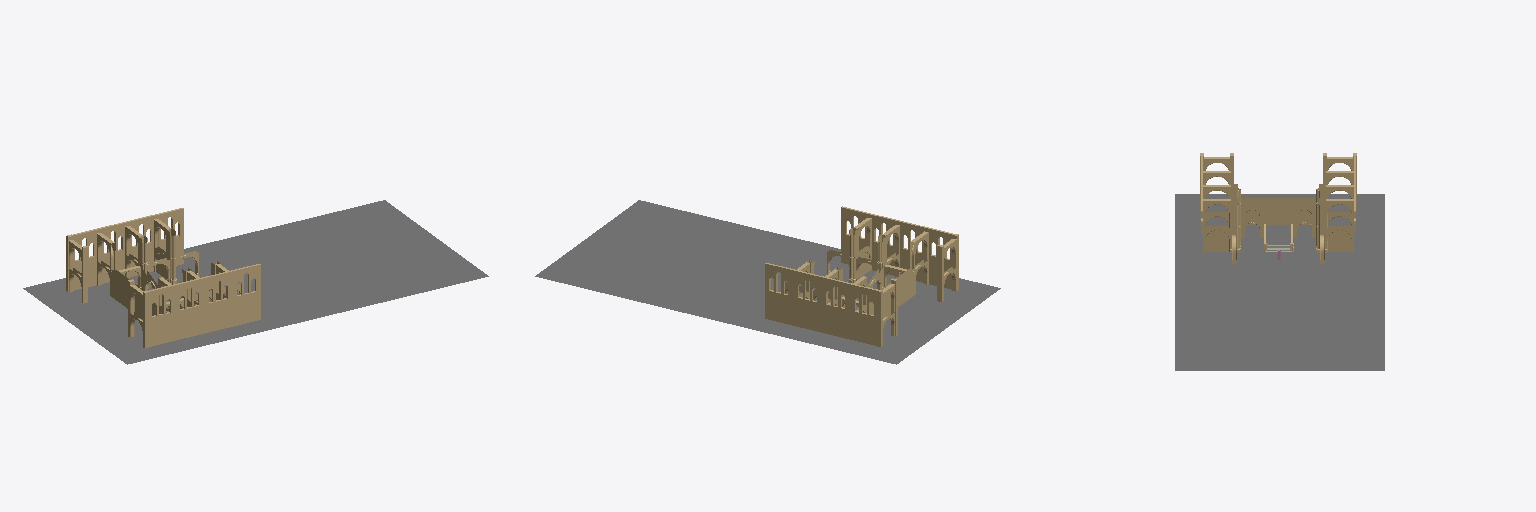
The model's file is NH_split01.obj.
3 views of the same model, side by side, from view 1: azimuth 30°, elevation 25°; view 2: azimuth 150°, elevation 25°; view 3: azimuth 270°, elevation 25° (orthographic).
Visible parts, largest first — view 1: Floor1, museumhallRD:Circle_1255_Circle_149, museumhallRD:Circle_1253_Circle_149, museumhallRD:Circle_1254_Circle_149, museumhallRD:Circle_1271_Circle_149, museumhallRD:Circle_2309_Circle_149, museumhallRD:Circle_2318_Circle_149, museumhallRD:Circle_2320_Circle_149, museumhallRD:Circle_2319_Circle_149, museumhallRD:Circle_2327_Circle_130, museumhallRD:Circle_1547_Circle_064; view 2: Floor1, museumhallRD:Circle_2319_Circle_149, museumhallRD:Circle_2318_Circle_149, museumhallRD:Circle_2320_Circle_149, museumhallRD:Circle_2309_Circle_149, museumhallRD:Circle_1255_Circle_149, museumhallRD:Circle_1271_Circle_149, museumhallRD:Circle_1253_Circle_149, museumhallRD:Circle_1254_Circle_149, museumhallRD:Circle_684_Circle_130; view 3: Floor1, museumhallRD:Circle_2329_Circle_148, museumhallRD:Circle_682_Circle_148, museumhallRD:Circle_244_Circle_064, museumhallRD:Circle_1547_Circle_064.
Boxes of the visible parts, x1,y1,x2,y2 form: Floor1: [23, 200, 488, 364]; museumhallRD:Circle_1255_Circle_149: [174, 277, 203, 340]; museumhallRD:Circle_1253_Circle_149: [231, 264, 260, 326]; museumhallRD:Circle_1254_Circle_149: [203, 271, 231, 333]; museumhallRD:Circle_1271_Circle_149: [149, 285, 174, 346]; museumhallRD:Circle_2309_Circle_149: [70, 228, 98, 290]; museumhallRD:Circle_2318_Circle_149: [98, 222, 126, 283]; museumhallRD:Circle_2320_Circle_149: [155, 208, 183, 265]; museumhallRD:Circle_2319_Circle_149: [126, 215, 155, 276]; museumhallRD:Circle_2327_Circle_130: [97, 233, 114, 285]; museumhallRD:Circle_1547_Circle_064: [110, 270, 139, 308]; Floor1: [535, 200, 1000, 364]; museumhallRD:Circle_2319_Circle_149: [793, 269, 822, 332]; museumhallRD:Circle_2318_Circle_149: [822, 276, 850, 338]; museumhallRD:Circle_2320_Circle_149: [765, 263, 793, 325]; museumhallRD:Circle_2309_Circle_149: [850, 283, 877, 345]; museumhallRD:Circle_1255_Circle_149: [898, 220, 926, 282]; museumhallRD:Circle_1271_Circle_149: [926, 227, 953, 289]; museumhallRD:Circle_1253_Circle_149: [841, 206, 870, 263]; museumhallRD:Circle_1254_Circle_149: [870, 214, 898, 275]; museumhallRD:Circle_684_Circle_130: [910, 231, 928, 284]; Floor1: [1175, 194, 1384, 370]; museumhallRD:Circle_2329_Circle_148: [1326, 199, 1353, 252]; museumhallRD:Circle_682_Circle_148: [1203, 199, 1230, 252]; museumhallRD:Circle_244_Circle_064: [1241, 198, 1278, 224]; museumhallRD:Circle_1547_Circle_064: [1279, 198, 1315, 224].
Bounding box in the file's own units: 1438 × 220 × 719.